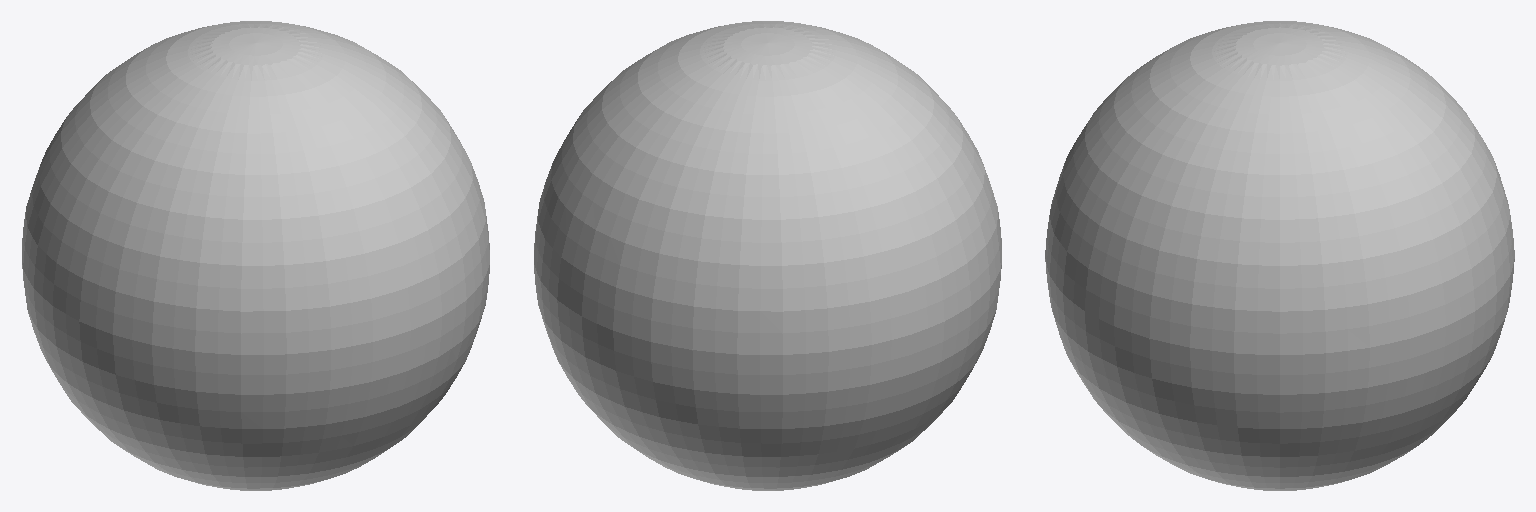
The model's file is newsphere.obj.
3 renders of one model, left to right at view 1: azimuth 30°, elevation 25°; view 2: azimuth 150°, elevation 25°; view 3: azimuth 270°, elevation 25°, orthographic.
Parts seen in each view (by area): view 1: Sphere; view 2: Sphere; view 3: Sphere.
Part boxes in pixels (x1,y1,x2,y2): Sphere: (22, 21, 489, 490); Sphere: (534, 21, 1001, 490); Sphere: (1045, 21, 1514, 490).
Size of the model in its own units: 1.99 by 1.99 by 1.99.